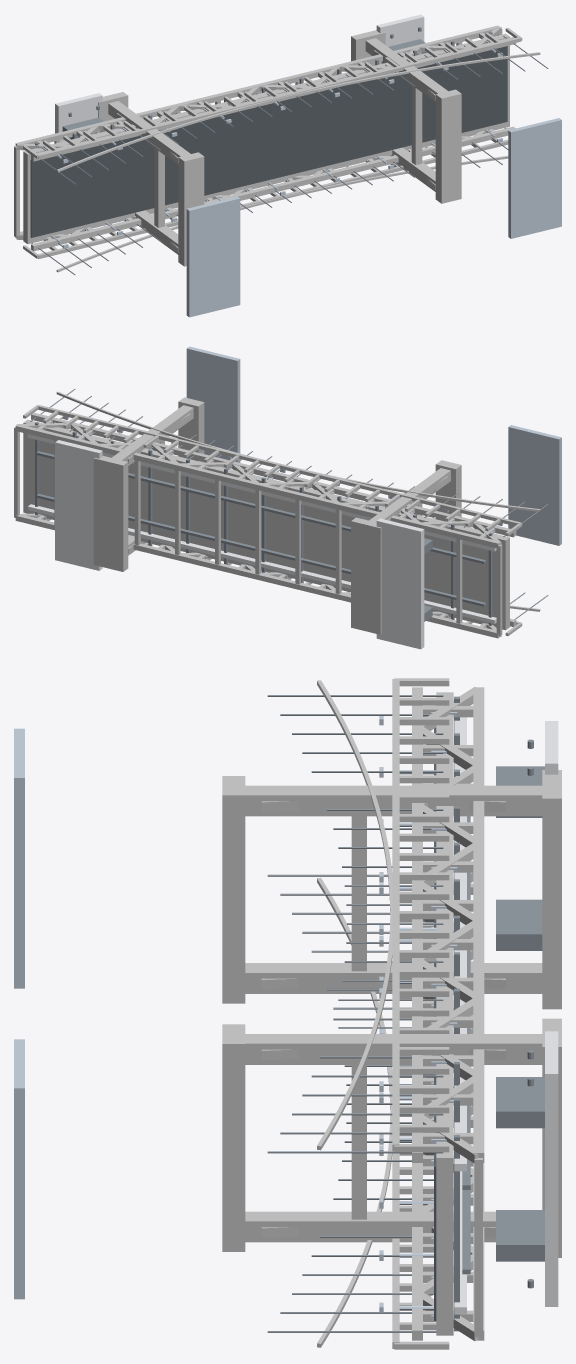
File: bridge_3d_component_hero.glb
3 renders of one model, top to bottom at view 1: azimuth 30°, elevation 25°; view 2: azimuth 150°, elevation 25°; view 3: azimuth 270°, elevation 25°, orthographic. The views are drawn at different scales.
Parts seen in each view (by area): view 1: hero_detail_000, hero_detail_069, hero_detail_081, road_deck, tower_top_1, side_upper_chord, side_lower_chord_1, guard_top_1, tower_top, guard_top, side_upper_chord_1, tower_leg_1 (+10 smaller); view 2: road_deck, hero_detail_069, hero_detail_068, hero_detail_080, hero_detail_081, tower_base_1, side_lower_chord_1, tower_base, side_lower_chord, guard_top_1, side_upper_chord_1, hero_detail_001 (+16 smaller); view 3: tower_leg_1, tower_leg_3, road_deck, tower_leg, tower_leg_2, tower_top_1, tower_top, side_lower_chord_1, tower_base, hero_detail_080, guard_top_1, side_upper_chord_1 (+14 smaller).
Part boxes in pixels (bbox=[...]): hero_detail_000: bbox=[30, 46, 507, 237]; hero_detail_069: bbox=[186, 196, 240, 317]; hero_detail_081: bbox=[508, 118, 561, 238]; road_deck: bbox=[23, 33, 509, 244]; tower_top_1: bbox=[435, 89, 461, 203]; side_upper_chord: bbox=[31, 126, 515, 251]; side_lower_chord_1: bbox=[15, 25, 500, 150]; guard_top_1: bbox=[37, 37, 521, 159]; tower_top: bbox=[178, 152, 204, 266]; guard_top: bbox=[37, 139, 508, 258]; side_upper_chord_1: bbox=[31, 37, 516, 161]; tower_leg_1: bbox=[108, 101, 190, 164]; road_deck: bbox=[23, 419, 509, 630]; hero_detail_069: bbox=[508, 425, 561, 545]; hero_detail_068: bbox=[376, 518, 424, 649]; hero_detail_080: bbox=[55, 440, 102, 570]; hero_detail_081: bbox=[186, 346, 240, 462]; tower_base_1: bbox=[93, 456, 128, 571]; side_lower_chord_1: bbox=[15, 424, 500, 548]; tower_base: bbox=[351, 517, 381, 634]; side_lower_chord: bbox=[15, 514, 499, 638]; guard_top_1: bbox=[37, 405, 521, 525]; side_upper_chord_1: bbox=[31, 412, 516, 537]; hero_detail_001: bbox=[27, 504, 496, 623]; tower_leg_1: bbox=[245, 785, 542, 816]; tower_leg_3: bbox=[245, 1034, 542, 1064]; road_deck: bbox=[436, 692, 453, 1335]; tower_leg: bbox=[245, 963, 542, 993]; tower_leg_2: bbox=[245, 1211, 495, 1242]; tower_top_1: bbox=[222, 1024, 245, 1251]; tower_top: bbox=[222, 776, 245, 1003]; side_lower_chord_1: bbox=[473, 687, 484, 1162]; tower_base: bbox=[542, 770, 561, 1009]; hero_detail_080: bbox=[545, 1031, 558, 1306]; guard_top_1: bbox=[392, 679, 399, 1151]; side_upper_chord_1: bbox=[412, 687, 422, 1162].
Bounding box in the file's own units: 29.93 × 6.93 × 14.77.
